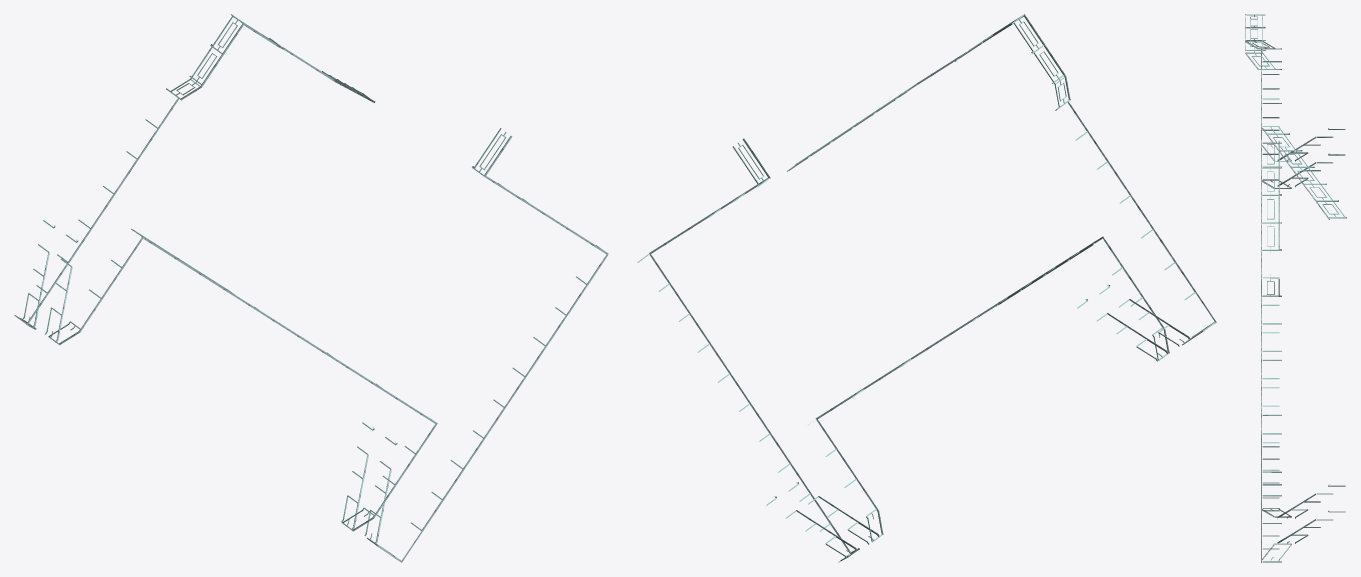
Rendered from SC11_apt ralling.fbx.
The picture shows the model from 3 angles, left to right: view 1: azimuth 30°, elevation 25°; view 2: azimuth 150°, elevation 25°; view 3: azimuth 270°, elevation 25°; orthographic projection. The views are drawn at different scales.
Parts seen in each view (by area): view 1: sc1_11_apt_railings##; view 2: sc1_11_apt_railings##; view 3: sc1_11_apt_railings##.
Boxes of the visible parts, box(x1,y1,x2,y2) form: sc1_11_apt_railings##: box(14, 14, 608, 562); sc1_11_apt_railings##: box(637, 14, 1216, 562); sc1_11_apt_railings##: box(1245, 14, 1346, 562).
Bounding box in the file's own units: 2699 × 2604 × 499.
